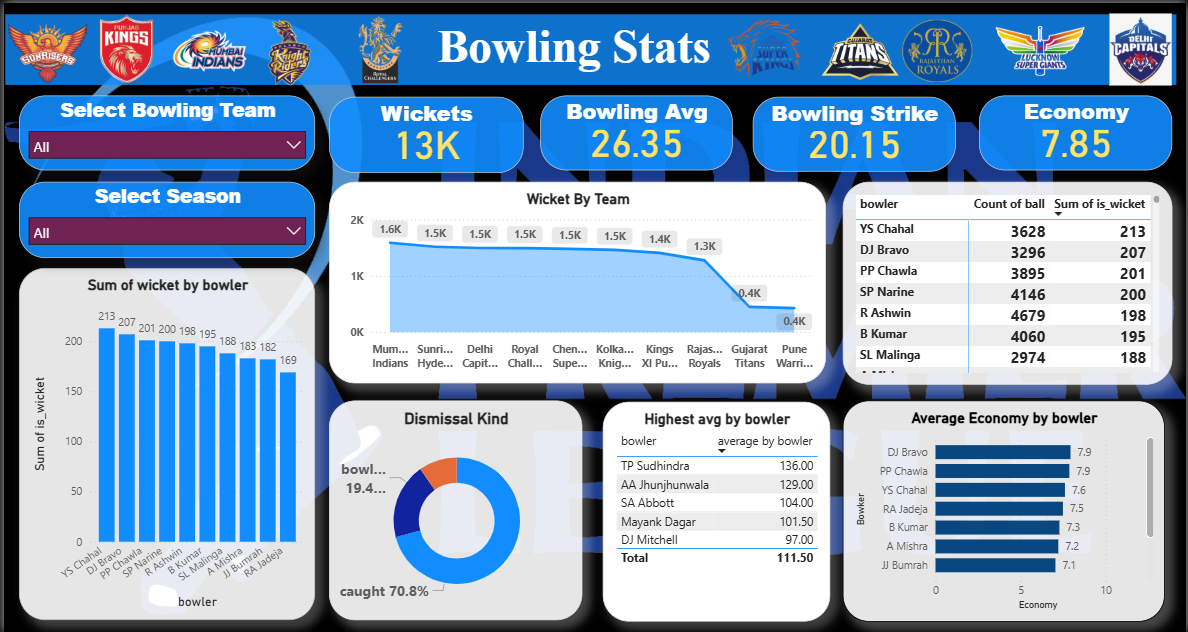

The page's visual inventory and layout, read from the dashboard file:
{"tool":"powerbi","page":{"name":"Bowler Stats","canvas":[1350,720],"ordinal":2},"visuals":[{"type":"areaChart","title":"Wicket By Team","fields":{"Y":["Sum(ipl_2008-2024 deliveries.is_wicket)"],"Category":["ipl_2008-2024 deliveries.bowling_team"]},"box":[371.8,204.9,568.1,230.7],"z":0},{"type":"slicer","title":"Select Bowling Team","fields":{"Values":["ipl_2008-2024 deliveries.bowling_team","ipl_2008-2024 deliveries.bowler"]},"box":[17.2,105.5,338.7,85.9],"z":1000},{"type":"card","title":"Wickets","fields":{"Values":["Sum(ipl_2008-2024 deliveries.is_wicket)"]},"box":[371.8,106.7,222.1,87.1],"z":2000},{"type":"card","title":"Bowling Avg","fields":{"Values":["Calender Table.average by bowler"]},"box":[613.5,105.5,219.6,85.9],"z":3000},{"type":"textbox","box":[1.2,12.3,1338.7,81],"z":4000},{"type":"image","box":[0,16.5,100.2,79.9],"z":5000},{"type":"image","box":[915.7,0,125.7,111.4],"z":6000},{"type":"image","box":[1128.8,14.7,111.7,81],"z":7000},{"type":"image","box":[185.2,11.4,96.4,87.5],"z":8000},{"type":"image","box":[92.9,8.6,94.3,88.6],"z":9000},{"type":"image","box":[1018.4,14.7,95.7,81],"z":10000},{"type":"image","box":[391.4,10,78.6,87.1],"z":11000},{"type":"image","box":[281.6,12.7,90.1,86.3],"z":12000},{"type":"image","box":[1258.9,7.4,81,92],"z":13000},{"type":"image","box":[820,12.9,98.6,78.6],"z":14000},{"type":"columnChart","title":"Sum of wicket by bowler","fields":{"Category":["ipl_2008-2024 deliveries.bowler"],"Y":["Sum(ipl_2008-2024 deliveries.is_wicket)"]},"box":[17.2,303.1,338.7,402.5],"z":15000},{"type":"card","title":"Bowling Strike","fields":{"Values":["Calender Table.Bowling strike rate"]},"box":[855.2,106.7,231.9,85.9],"z":16000},{"type":"card","title":"Economy","fields":{"Values":["Calender Table.Economy"]},"box":[1114.1,105.5,220.9,85.9],"z":17000},{"type":"donutChart","title":"Dismissal Kind","fields":{"Category":["ipl_2008-2024 deliveries.dismissal_kind"],"Y":["CountNonNull(ipl_2008-2024 deliveries.dismissal_kind)"]},"box":[371.8,454,289.6,251.5],"z":18000},{"type":"tableEx","title":"Highest avg by bowler","fields":{"Values":["ipl_2008-2024 deliveries.bowler","Calender Table.average by bowler"]},"box":[684.7,455.2,260.1,251.5],"z":19000},{"type":"pivotTable","fields":{"Values":["CountNonNull(ipl_2008-2024 deliveries.ball)","Sum(ipl_2008-2024 deliveries.is_wicket)"],"Rows":["ipl_2008-2024 deliveries.bowler"]},"box":[958.3,203.7,376.7,231.9],"z":20000},{"type":"clusteredBarChart","title":"Average Economy by bowler","fields":{"Category":["ipl_2008-2024 deliveries.bowler"],"Y":["Calender Table.Economy"]},"box":[958.3,454,368.1,252.8],"z":21000},{"type":"slicer","title":"Select Season","fields":{"Values":["ipl 2008-2024 matches.season"]},"box":[17.2,203.7,338.7,87.1],"z":22000},{"type":"textbox","box":[450,14.3,402.9,78.6],"z":23000}]}

Visuals, with their boxes in screenshot pixels (x1, y1, x2, y2), scaled from the page's 1350x720 canvas onto the 1188x632 screenshot:
"Wicket By Team" areaChart: region(327, 180, 827, 382)
"Select Bowling Team" slicer: region(15, 93, 313, 168)
"Wickets" card: region(327, 94, 523, 170)
"Bowling Avg" card: region(540, 93, 733, 168)
textbox: region(1, 11, 1179, 82)
image: region(0, 14, 88, 85)
image: region(806, 0, 916, 98)
image: region(993, 13, 1092, 84)
image: region(163, 10, 248, 87)
image: region(82, 8, 165, 85)
image: region(896, 13, 980, 84)
image: region(344, 9, 414, 85)
image: region(248, 11, 327, 87)
image: region(1108, 6, 1179, 87)
image: region(722, 11, 808, 80)
"Sum of wicket by bowler" columnChart: region(15, 266, 313, 619)
"Bowling Strike" card: region(753, 94, 957, 169)
"Economy" card: region(980, 93, 1175, 168)
"Dismissal Kind" donutChart: region(327, 399, 582, 619)
"Highest avg by bowler" tableEx: region(603, 400, 831, 620)
pivotTable - CountNonNull(ipl_2008-2024 deliveries.ball) x Sum(ipl_2008-2024 deliveries.is_wicket): region(843, 179, 1175, 382)
"Average Economy by bowler" clusteredBarChart: region(843, 399, 1167, 620)
"Select Season" slicer: region(15, 179, 313, 255)
textbox: region(396, 13, 751, 82)
